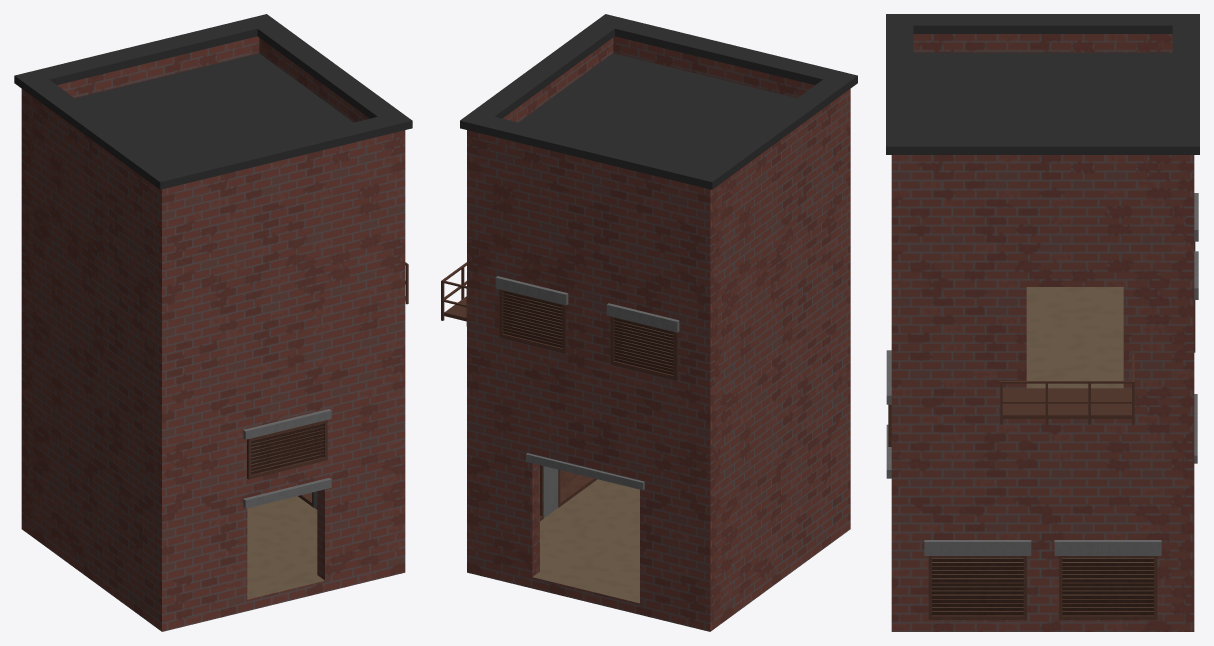
File: Building2floors.fbx
3 views of the same model, side by side, from view 1: azimuth 30°, elevation 25°; view 2: azimuth 150°, elevation 25°; view 3: azimuth 270°, elevation 25° (orthographic). The views are drawn at different scales.
Visible parts, largest first — view 1: КПП.009; view 2: КПП.009; view 3: КПП.009.
Boxes of the visible parts, <box> form: КПП.009: <box>14,14,412,631</box>; КПП.009: <box>441,14,857,631</box>; КПП.009: <box>886,14,1199,631</box>.
Size of the model in its own units: 891 by 1278 by 746.
